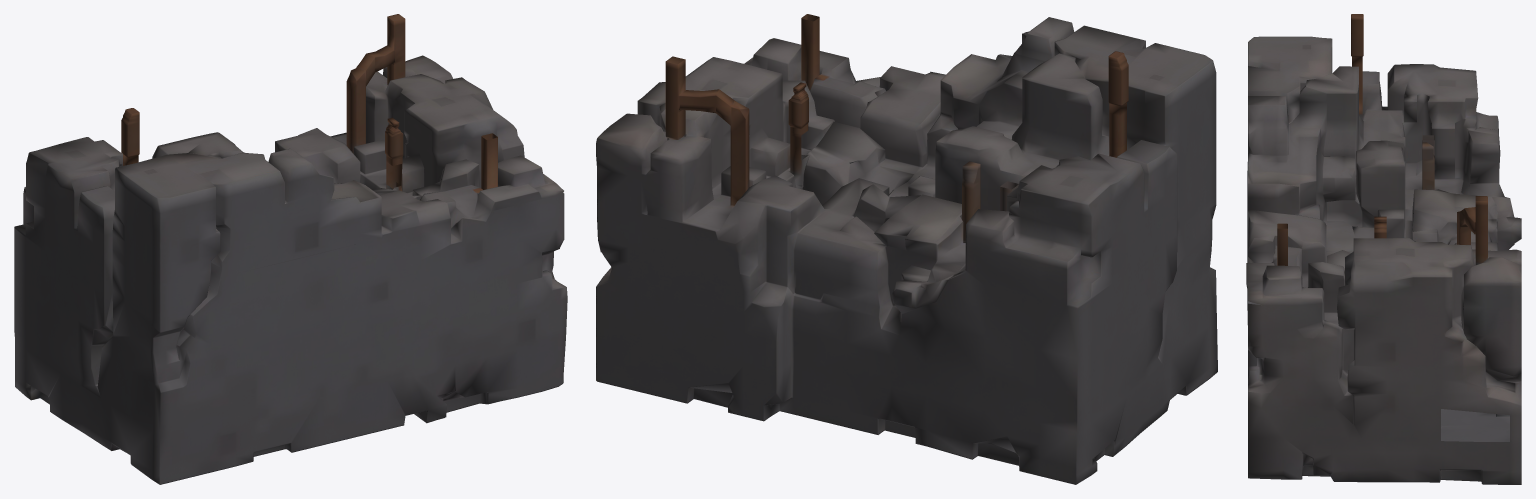
The model's file is wall_broken.glb.
3 views of the same model, side by side, from view 1: azimuth 30°, elevation 25°; view 2: azimuth 150°, elevation 25°; view 3: azimuth 270°, elevation 25° (orthographic). The views are drawn at different scales.
Visible parts, largest first — view 1: tripo_node_20c82c25-6326-4151-8e30-56a5fa171e53; view 2: tripo_node_20c82c25-6326-4151-8e30-56a5fa171e53; view 3: tripo_node_20c82c25-6326-4151-8e30-56a5fa171e53.
Part boxes in pixels (x1,y1,x2,y2): tripo_node_20c82c25-6326-4151-8e30-56a5fa171e53: (14, 14, 567, 484); tripo_node_20c82c25-6326-4151-8e30-56a5fa171e53: (596, 14, 1217, 484); tripo_node_20c82c25-6326-4151-8e30-56a5fa171e53: (1246, 14, 1521, 484).
Bounding box in the file's own units: 1 × 0.7339 × 0.6067.
1 material, 1 textured.
